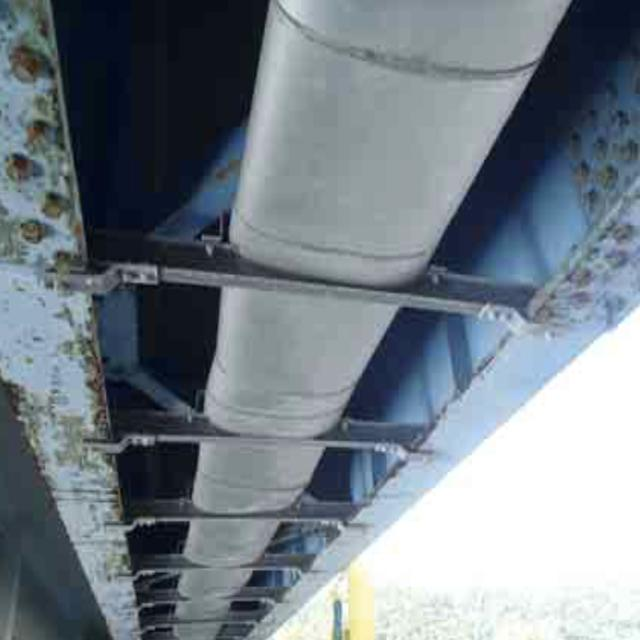corrosion: (7, 32, 117, 454)
